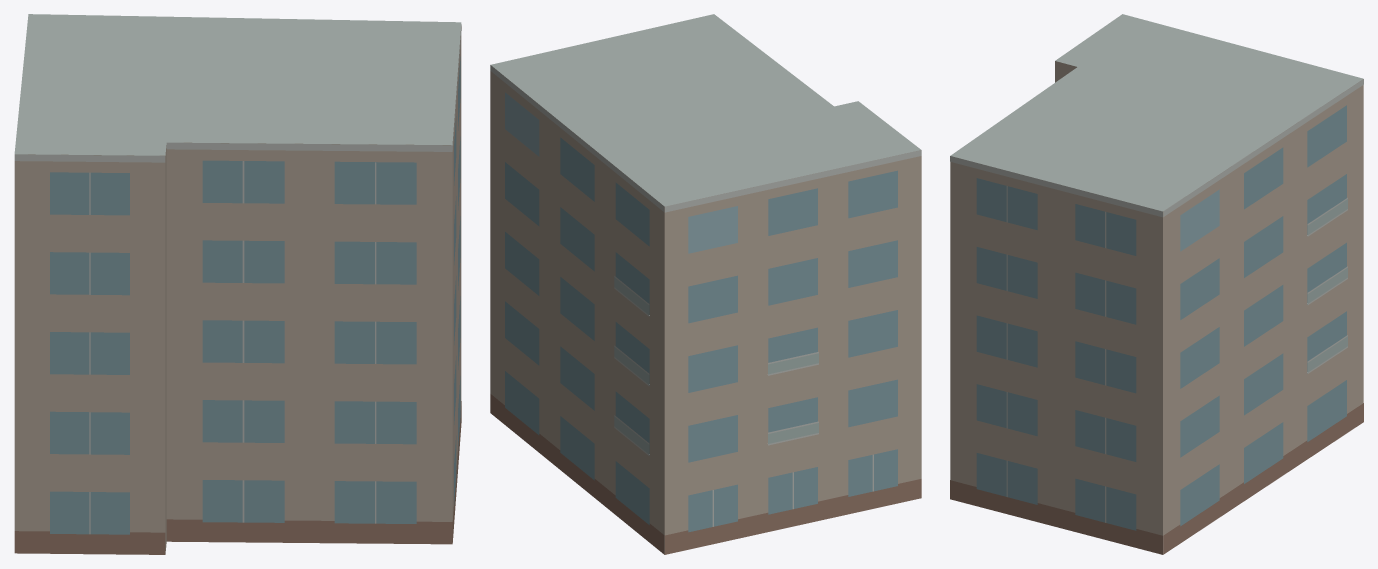
The model's file is survey-upis-32687321.glb.
The picture shows the model from 3 angles, left to right: view 1: azimuth 30°, elevation 25°; view 2: azimuth 150°, elevation 25°; view 3: azimuth 270°, elevation 25°; orthographic projection. The views are drawn at different scales.
Visible parts, largest first — view 1: survey-upis-32687321.tmp; view 2: survey-upis-32687321.tmp; view 3: survey-upis-32687321.tmp.
Part boxes in pixels (x1=…): survey-upis-32687321.tmp: x1=14, y1=14, x2=461, y2=554; survey-upis-32687321.tmp: x1=490, y1=14, x2=921, y2=554; survey-upis-32687321.tmp: x1=950, y1=14, x2=1363, y2=554.
Bounding box in the file's own units: 17.53 × 14.2 × 15.51.
